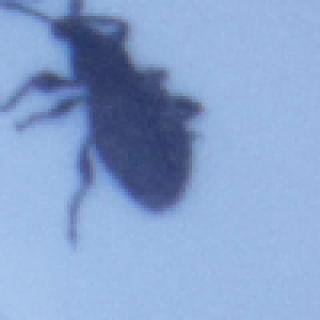bvw: (0, 0, 203, 250)
